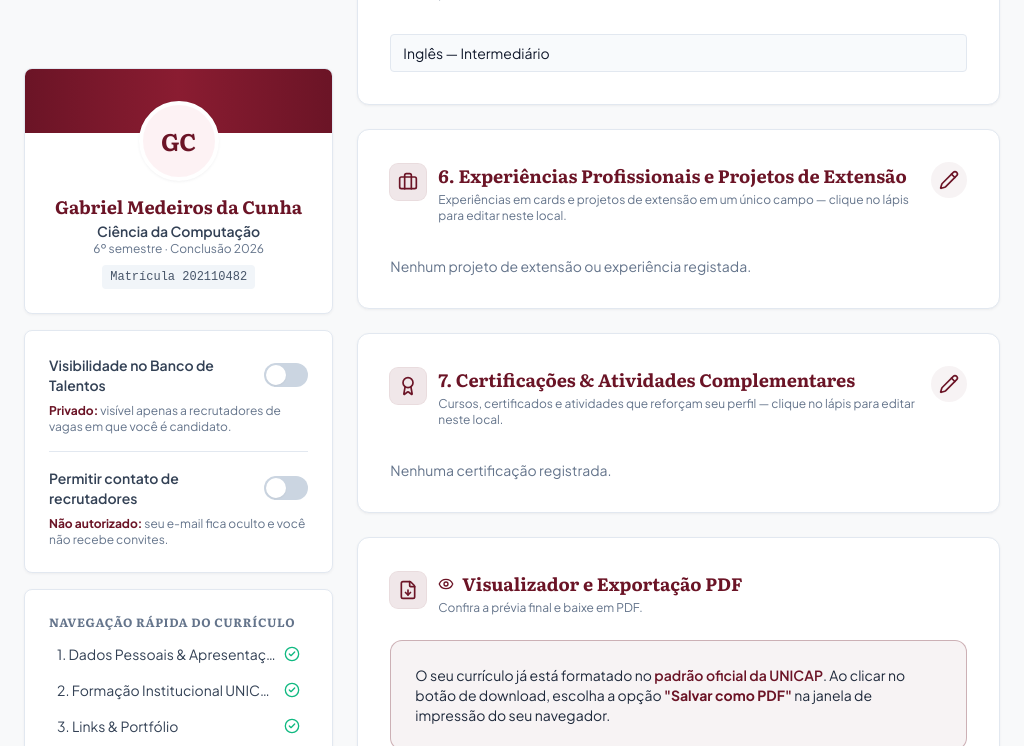
Scenario: ResumeBuilderPage — main com os 7 blocos (Etapa 2.2) › bloco 7 lista certificações com campo para adicionar (via lápis)
The image size is (1024, 746).
(page scrolled)
Expected: the button "adicionar certificação" is not shown
Click the button named "Editar Certificações": click(949, 384) [931,366,967,402]
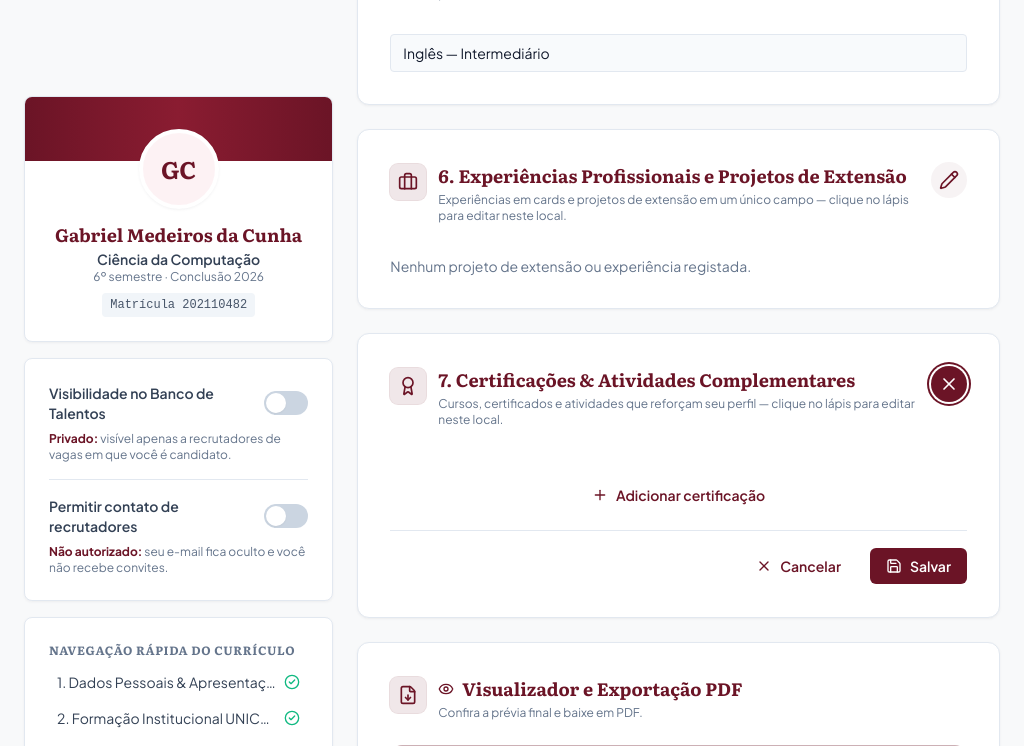
Result: the element named "certificações" is shown at [390,460,967,514]
Result: the button "Adicionar certificação" is shown at [390,476,967,514]
